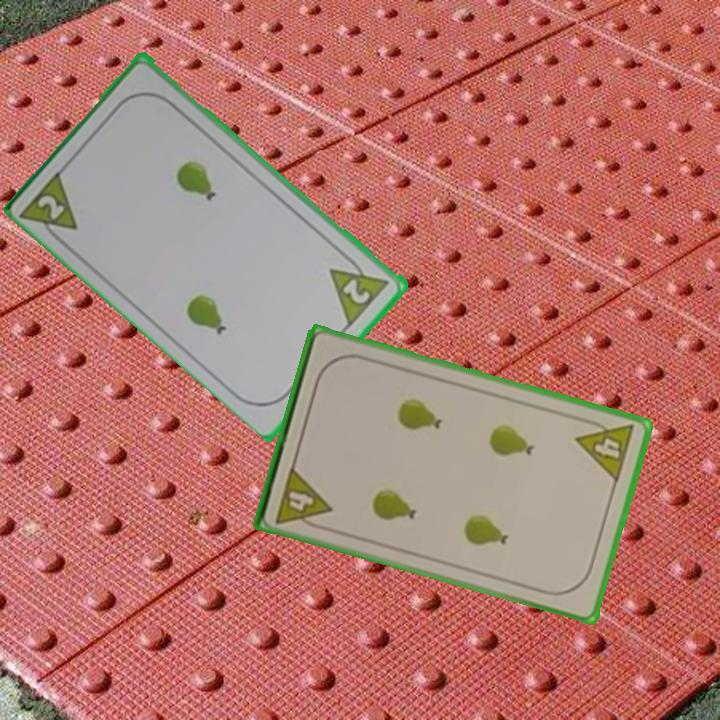2p: (18, 164, 82, 250), (326, 249, 393, 328)
4p: (572, 413, 638, 486), (271, 462, 334, 533)
